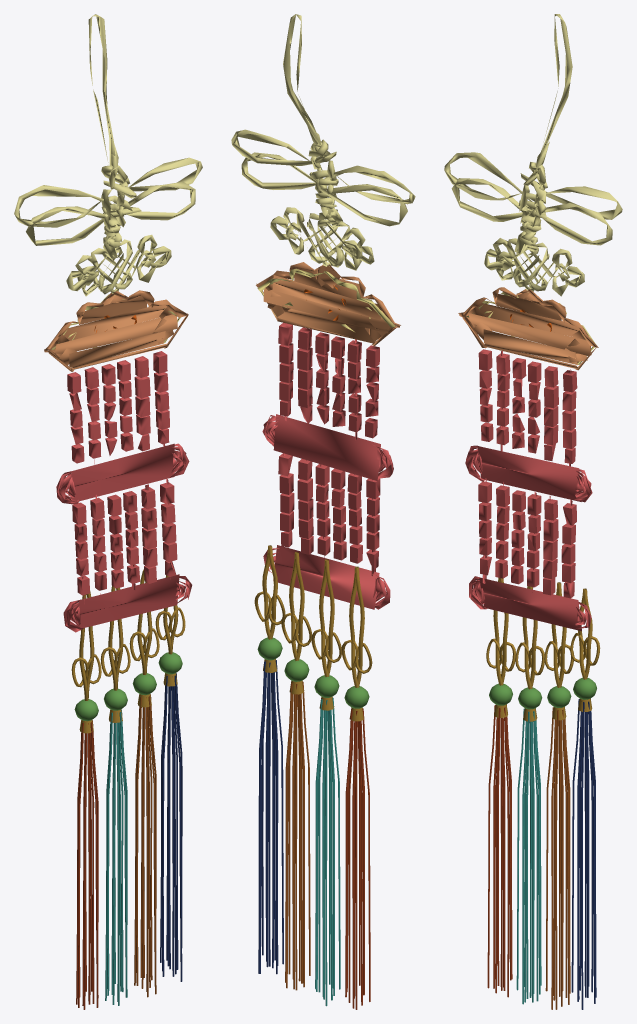
The model's file is chinese-knot-medium.glb.
3 views of the same model, side by side, from view 1: azimuth 30°, elevation 25°; view 2: azimuth 150°, elevation 25°; view 3: azimuth 330°, elevation 25° (orthographic). The views are drawn at different scales.
Visible parts, largest first — view 1: red-gold-knot-and-tassels; view 2: red-gold-knot-and-tassels; view 3: red-gold-knot-and-tassels.
Part boxes in pixels (left/top/right/bottom): red-gold-knot-and-tassels: left=14, top=14, right=202, bottom=1009; red-gold-knot-and-tassels: left=231, top=14, right=415, bottom=1009; red-gold-knot-and-tassels: left=444, top=14, right=622, bottom=1009.
Size of the model in its own units: 0.1974 by 0.9988 by 0.0716.
